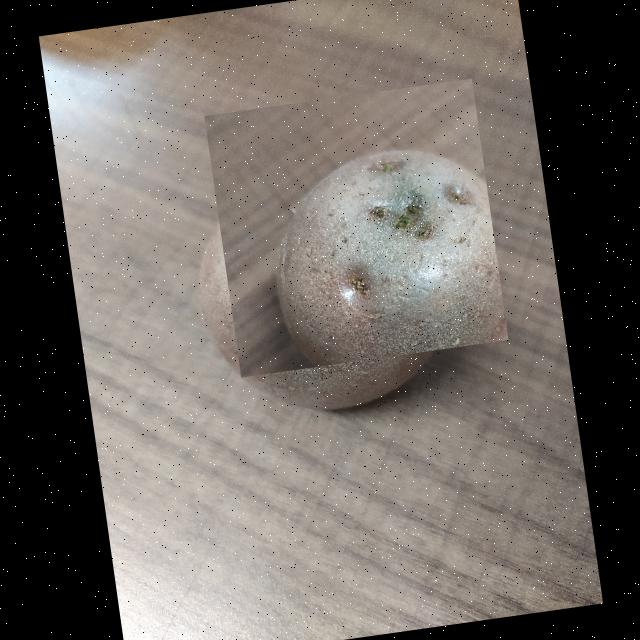Damaged potato: (203, 79, 508, 378)
